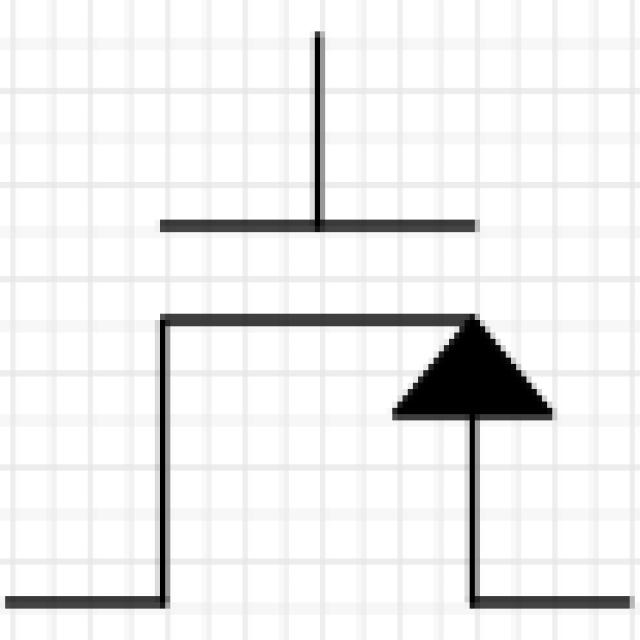pmos: (10, 12, 629, 640)
